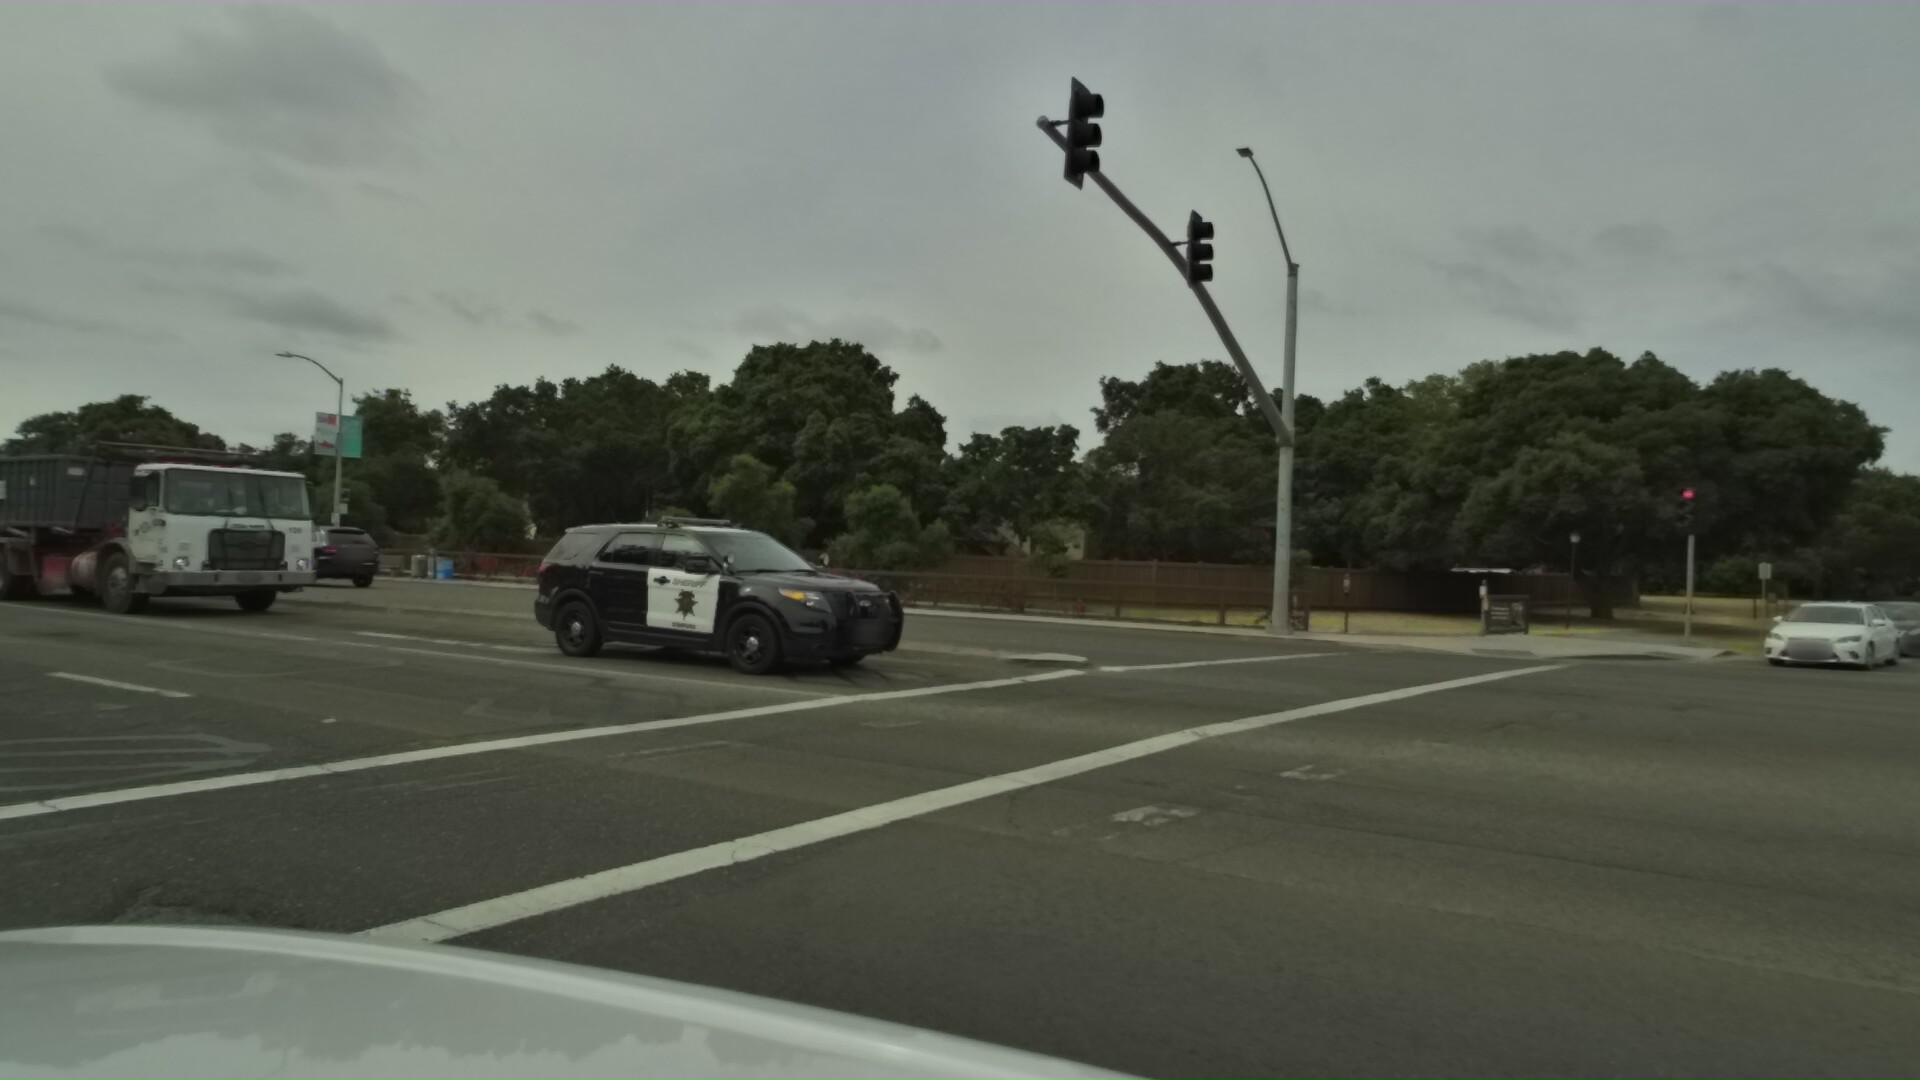car: (1706, 589, 1875, 679), (216, 521, 371, 588), (1801, 593, 1920, 659), (1903, 592, 1920, 762)
emergency_vehicle: (469, 516, 890, 694)
truck: (0, 423, 320, 626)
